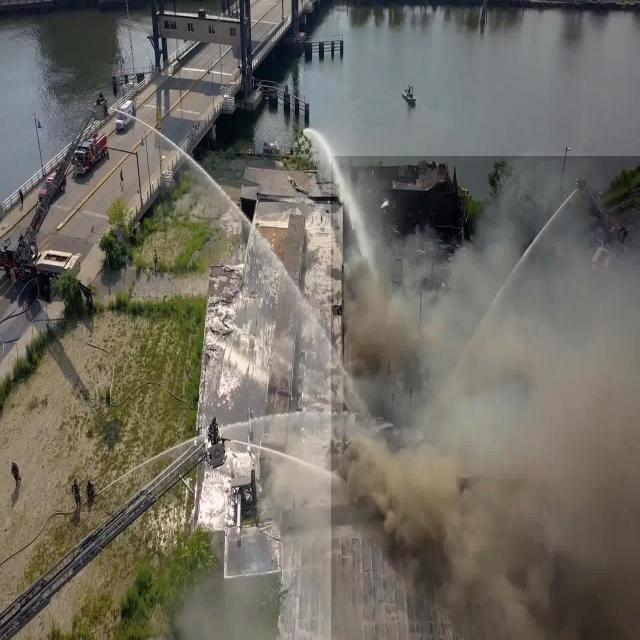Smoke: (331, 156, 640, 640)
